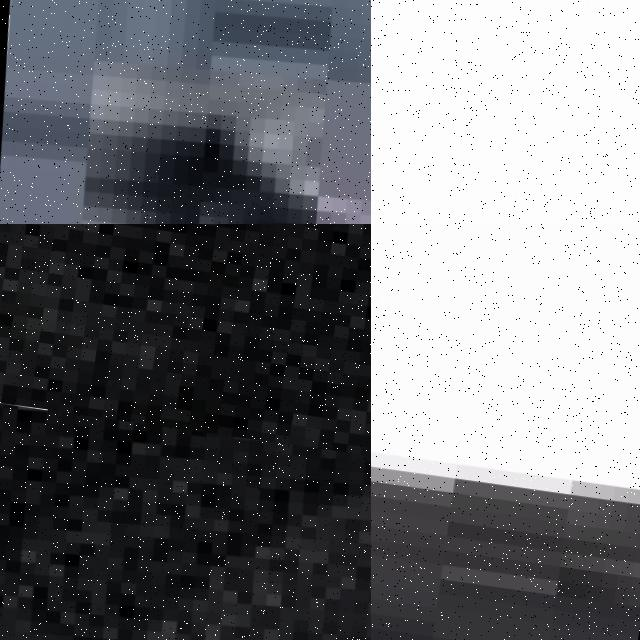drone: (0, 389, 371, 640), (0, 0, 371, 224)
